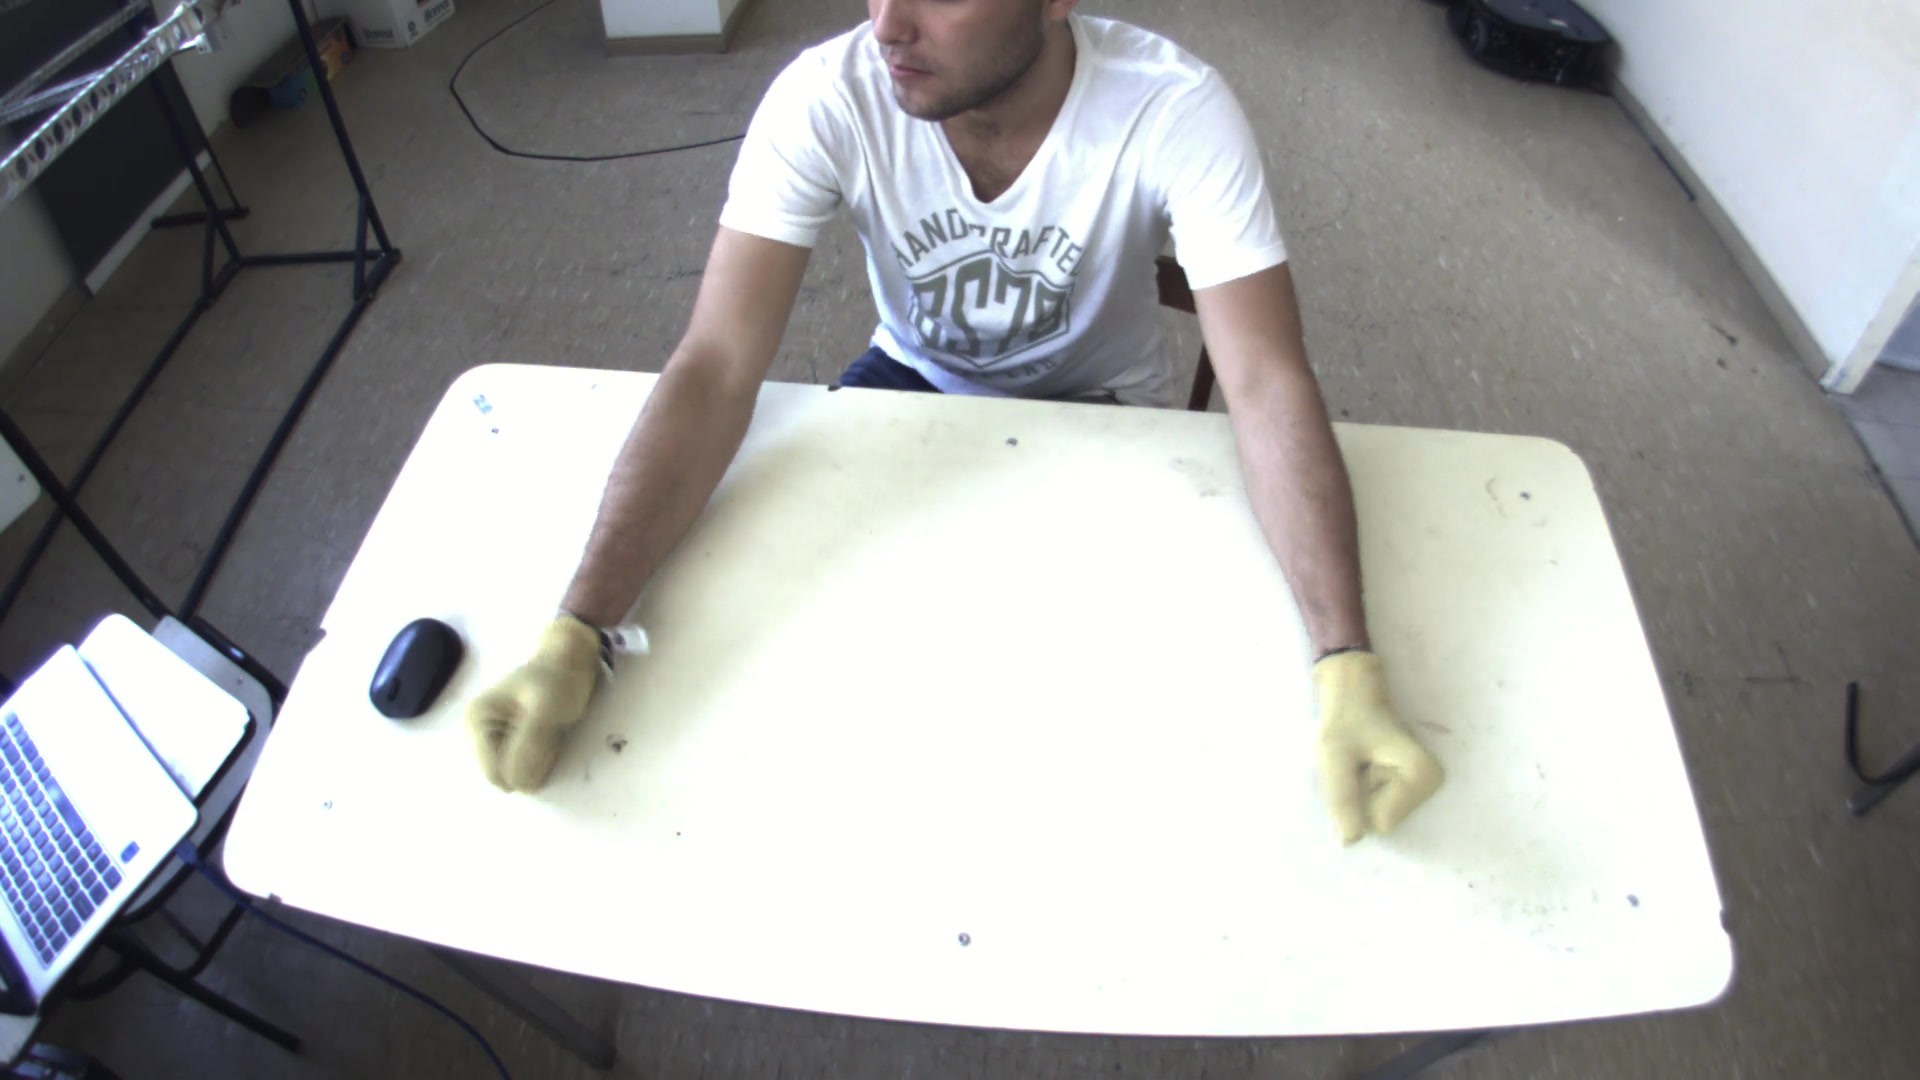hand: (1302, 645, 1461, 855), (450, 615, 621, 806)
